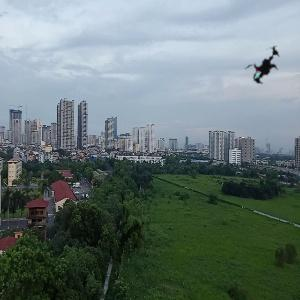drone: (232, 32, 297, 97)
